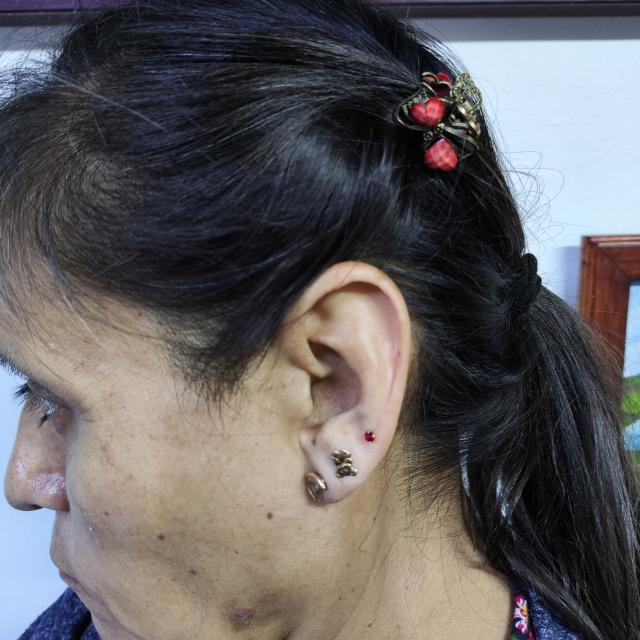ear: (271, 261, 412, 504)
